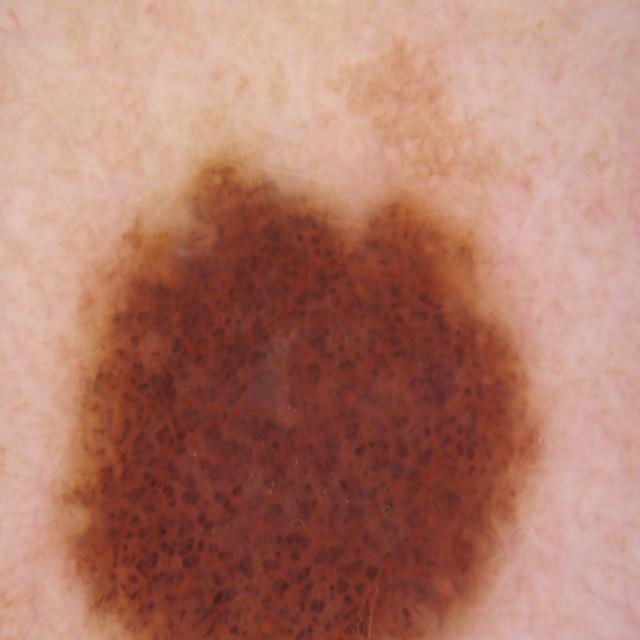Melanoma: (65, 144, 552, 640)
